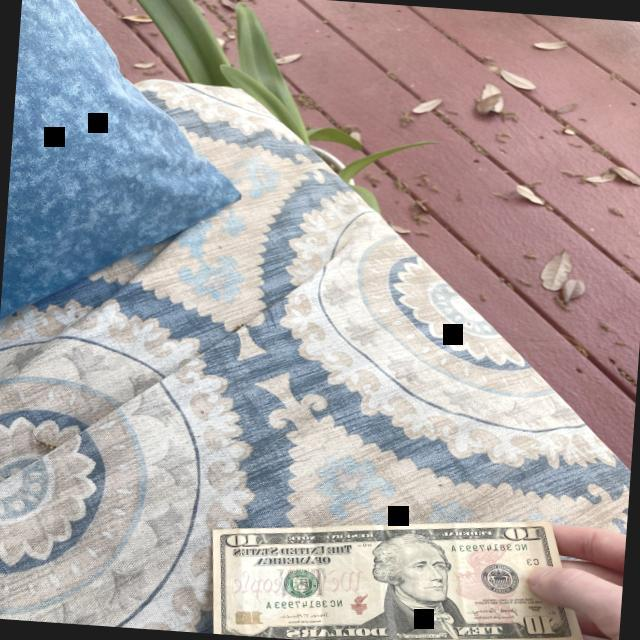ten: (211, 521, 583, 640)
